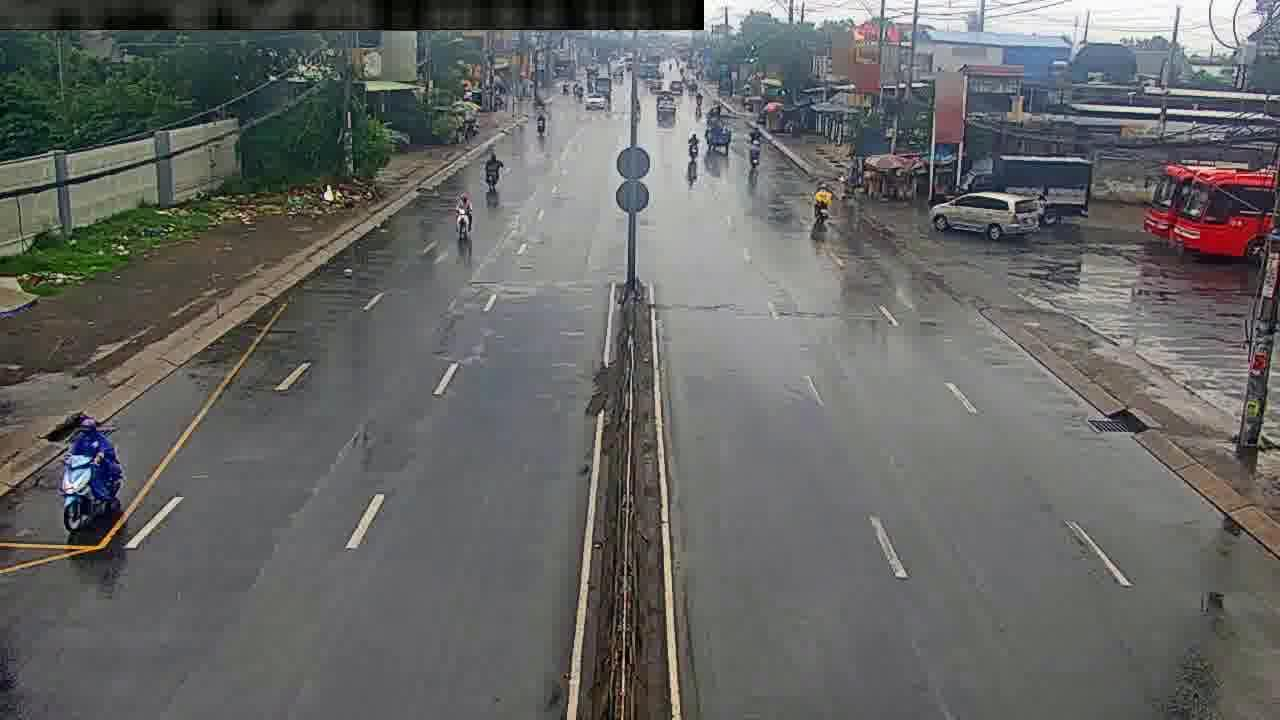container: (933, 190, 1037, 235)
motorbike: (64, 420, 123, 544), (812, 177, 834, 230), (456, 196, 475, 248), (483, 149, 501, 195), (745, 132, 760, 171), (687, 133, 702, 170), (535, 103, 549, 139)
